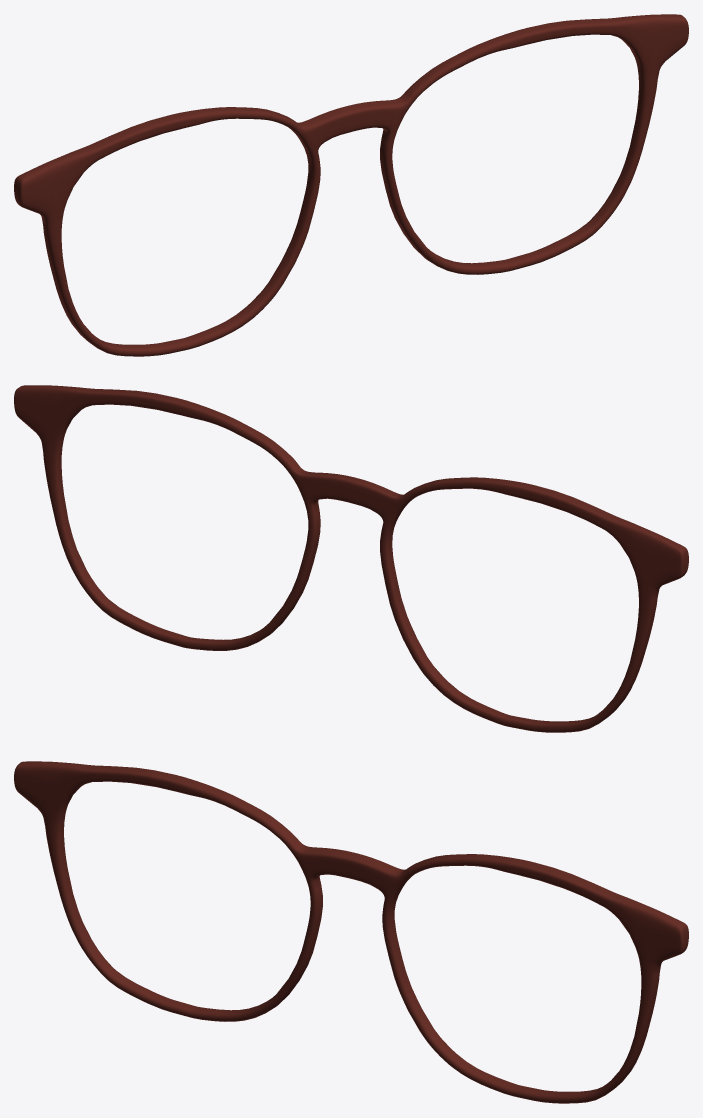
The model's file is Red Glasses Demo.glb.
3 views of the same model, one above another, from view 1: azimuth 30°, elevation 25°; view 2: azimuth 150°, elevation 25°; view 3: azimuth 330°, elevation 25° (orthographic).
Visible parts, largest first — view 1: Glasses v2 Texture Green; view 2: Glasses v2 Texture Green; view 3: Glasses v2 Texture Green.
Boxes of the visible parts, x1,y1,x2,y2 form: Glasses v2 Texture Green: [14, 14, 688, 356]; Glasses v2 Texture Green: [14, 385, 688, 732]; Glasses v2 Texture Green: [14, 761, 688, 1103].
Size of the model in its own units: 144 by 49.33 by 4.59.
